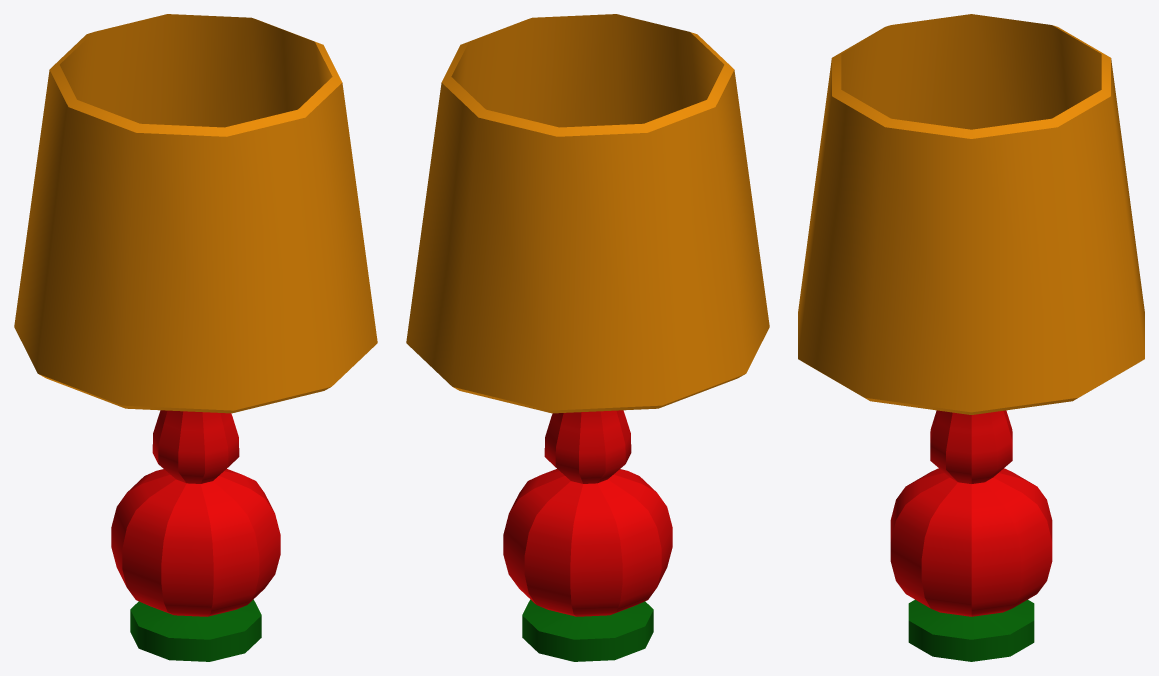
The model's file is LR_DeskLamp_1.fbx.
3 renders of one model, left to right at view 1: azimuth 30°, elevation 25°; view 2: azimuth 150°, elevation 25°; view 3: azimuth 270°, elevation 25°, orthographic.
Visible parts, largest first — view 1: LR_DeskLamp_1; view 2: LR_DeskLamp_1; view 3: LR_DeskLamp_1.
Part boxes in pixels (left/top/right/bottom): LR_DeskLamp_1: left=14, top=14, right=377, bottom=661; LR_DeskLamp_1: left=406, top=14, right=769, bottom=661; LR_DeskLamp_1: left=798, top=14, right=1144, bottom=661.
Bounding box in the file's own units: 53.02 × 90.24 × 50.43.
